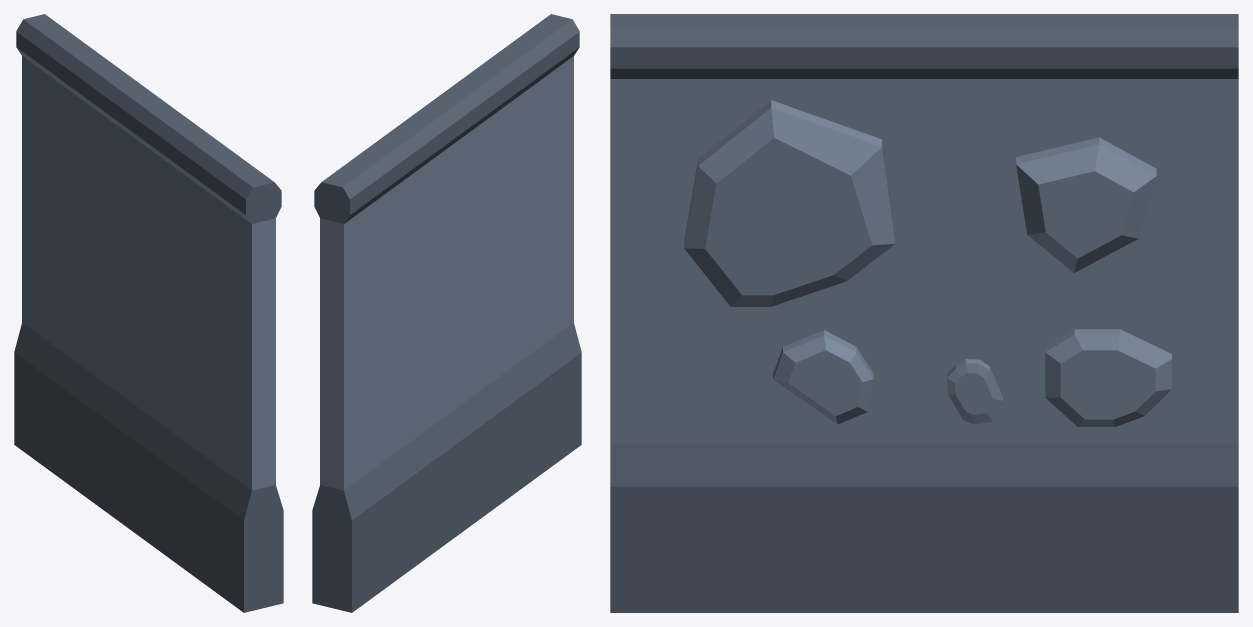
Rendered from WallPlain01.fbx.
The picture shows the model from 3 angles, left to right: view 1: azimuth 30°, elevation 25°; view 2: azimuth 150°, elevation 25°; view 3: azimuth 270°, elevation 25°; orthographic projection. The views are drawn at different scales.
Parts seen in each view (by area): view 1: Plane.004; view 2: Plane.004; view 3: Plane.004.
Boxes of the visible parts, x1,y1,x2,y2 form: Plane.004: (14, 14, 283, 612); Plane.004: (312, 14, 581, 612); Plane.004: (610, 14, 1238, 612).
Size of the model in its own units: 111 by 813 by 800.
Materials: 1 (1 with a texture image).
